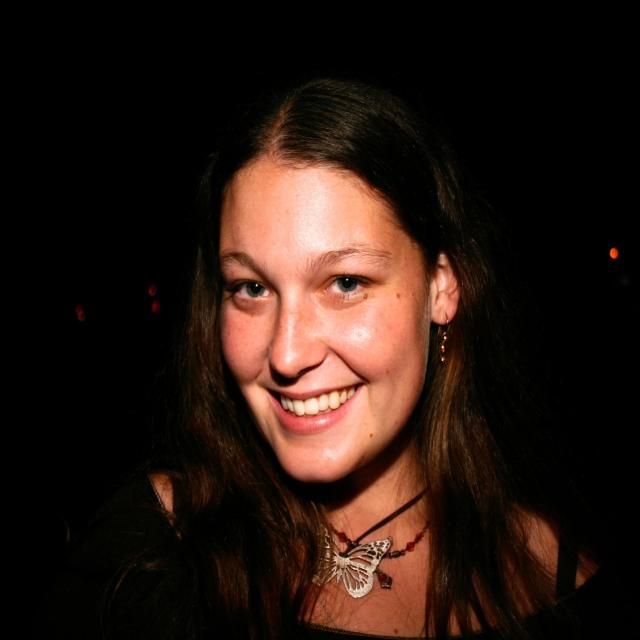Eyebags: (313, 286, 374, 314), (229, 295, 276, 320)
